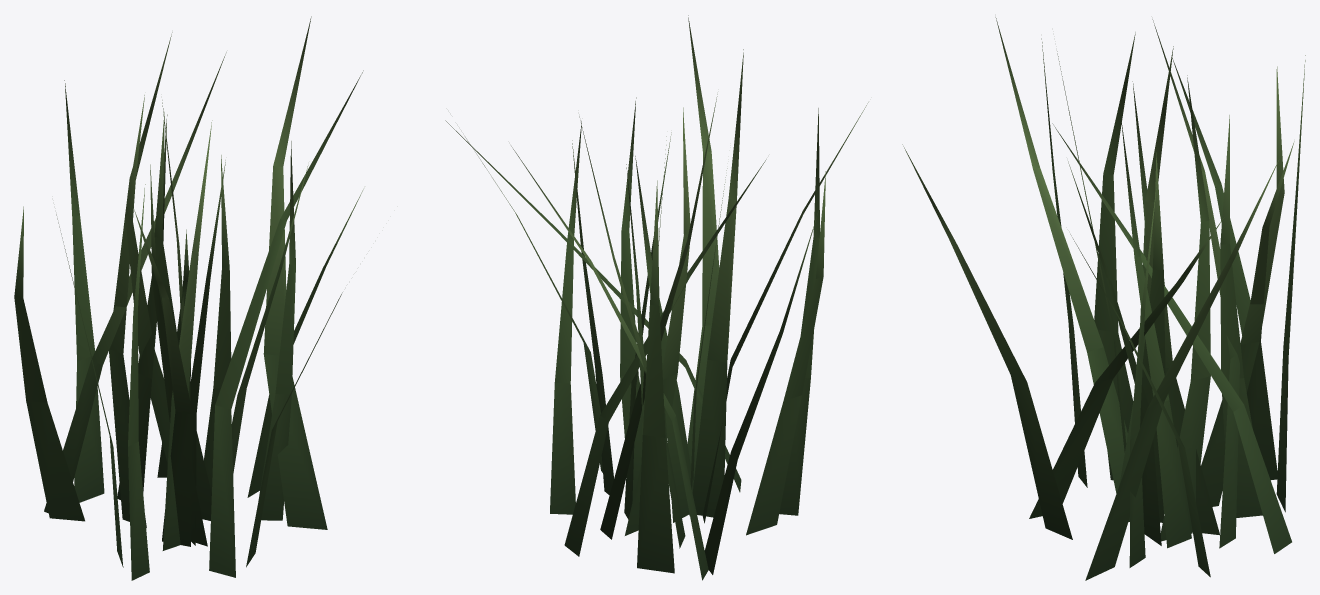
The model's file is grass_clump_fresh.glb.
3 renders of one model, left to right at view 1: azimuth 30°, elevation 25°; view 2: azimuth 150°, elevation 25°; view 3: azimuth 270°, elevation 25°, orthographic. The views are drawn at different scales.
Visible parts, largest first — view 1: grass_clump_fresh; view 2: grass_clump_fresh; view 3: grass_clump_fresh.
Part boxes in pixels (x1,y1,x2,y2): grass_clump_fresh: (14,16,363,580); grass_clump_fresh: (445,15,868,580); grass_clump_fresh: (902,17,1305,580).
Bounding box in the file's own units: 0.5554 × 0.66 × 0.4953.
